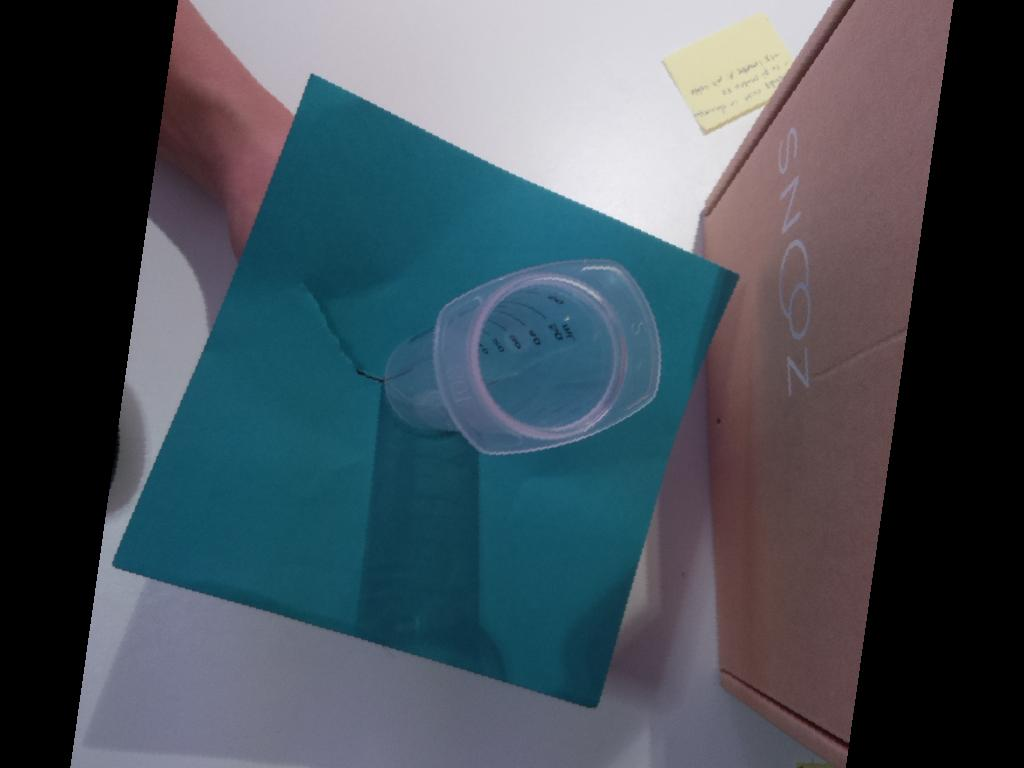clean: (431, 256, 664, 457)
